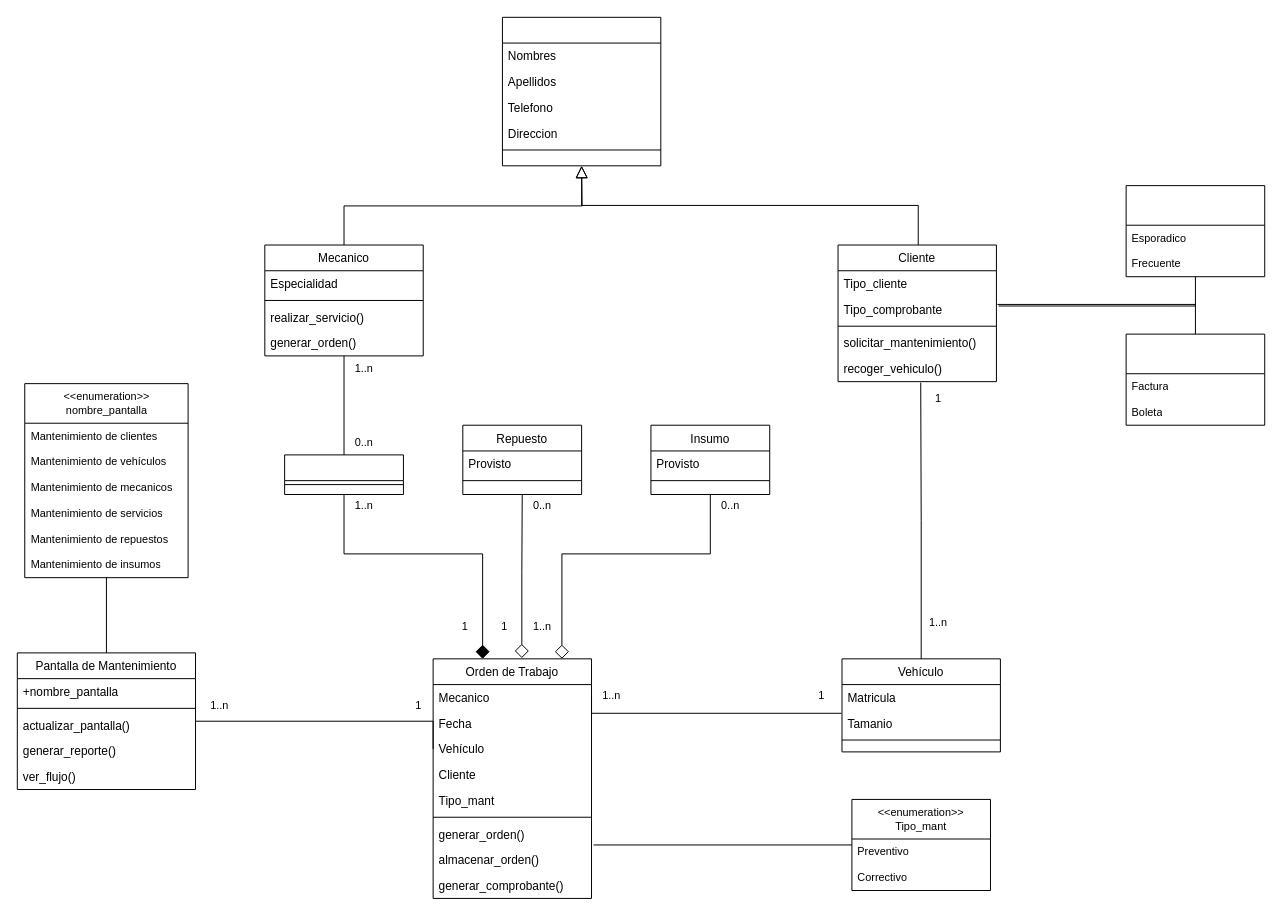
Image size: 1282x919. Some labels were removed from this diagram. The box of each missing label's shape, as (x1, y1, x2, y2) in pixels:
<<enumeration>> Tipo_cliente: (1125, 185, 1265, 277)
<<enumeration>> Tipo_comprobante: (1125, 333, 1265, 425)
Persona: (501, 16, 661, 166)
Servicio: (284, 454, 403, 495)
